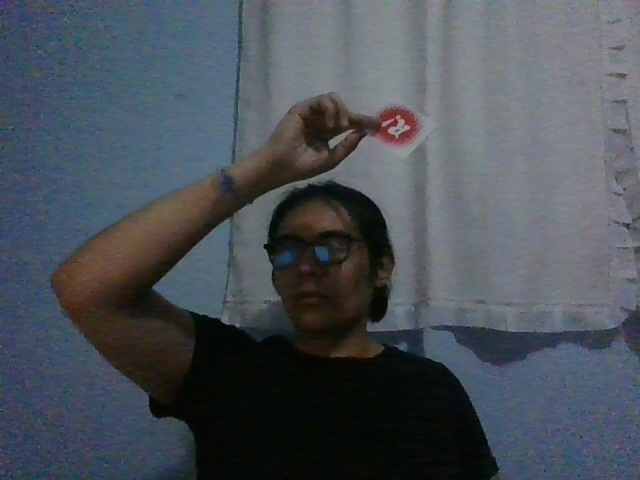tarjeta: (363, 98, 439, 159)
